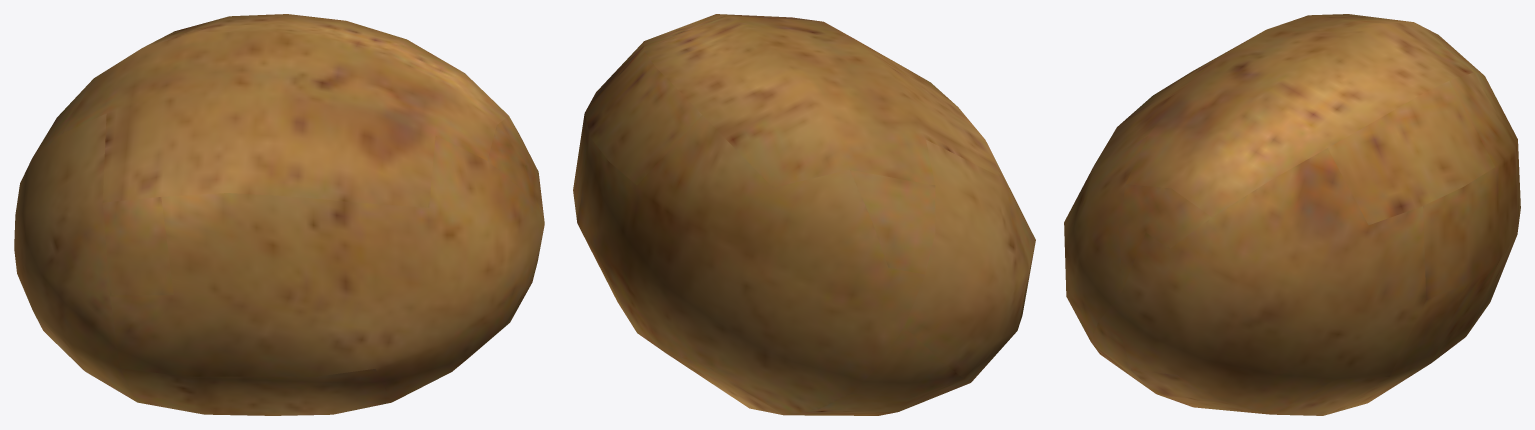
The model's file is SM_配餐室_水果蔬菜_18.fbx.
3 views of the same model, side by side, from view 1: azimuth 30°, elevation 25°; view 2: azimuth 150°, elevation 25°; view 3: azimuth 270°, elevation 25° (orthographic). The views are drawn at different scales.
Visible parts, largest first — view 1: SM_配餐室_水果蔬菜_18; view 2: SM_配餐室_水果蔬菜_18; view 3: SM_配餐室_水果蔬菜_18.
Boxes of the visible parts, bbox=[...] form: SM_配餐室_水果蔬菜_18: bbox=[14, 14, 544, 415]; SM_配餐室_水果蔬菜_18: bbox=[573, 14, 1035, 415]; SM_配餐室_水果蔬菜_18: bbox=[1064, 14, 1520, 415].
Size of the model in its own units: 99.46 by 75.28 by 86.92.
